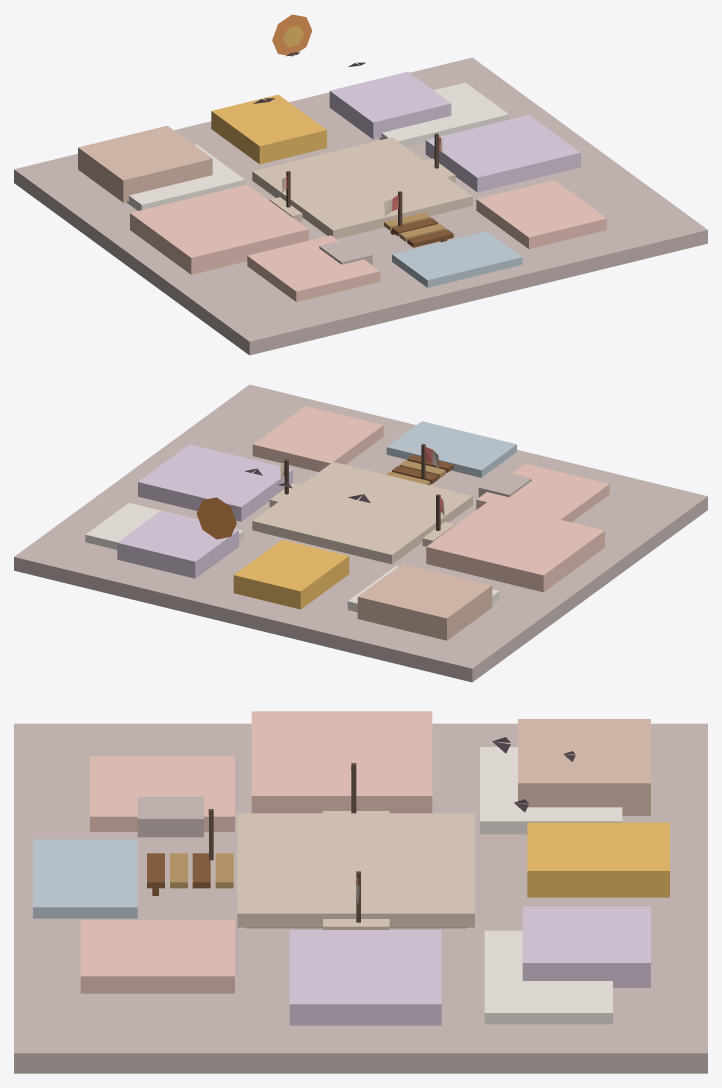
Rendered from env_cloudsea.glb.
3 views of the same model, one above another, from view 1: azimuth 30°, elevation 25°; view 2: azimuth 150°, elevation 25°; view 3: azimuth 270°, elevation 25° (orthographic). The views are drawn at different scales.
Parts seen in each view (by area): view 1: CS_clouds, CS_platform, CS_walk, CS_sun, CS_flags, CS_pads; view 2: CS_clouds, CS_platform, CS_sun, CS_walk, CS_flags, CS_pads; view 3: CS_clouds, CS_platform, CS_walk, CS_pads, CS_flags.
Boxes of the visible parts, x1,y1,x2,y2 form: CS_clouds: (14, 57, 707, 355); CS_platform: (252, 137, 472, 238); CS_walk: (384, 212, 453, 247); CS_sun: (272, 14, 312, 56); CS_flags: (282, 133, 442, 226); CS_pads: (269, 158, 455, 221); CS_clouds: (14, 384, 707, 682); CS_platform: (252, 462, 472, 564); CS_sun: (196, 497, 236, 539); CS_walk: (386, 454, 453, 485); CS_flags: (280, 443, 444, 530); CS_pads: (269, 483, 455, 546); CS_clouds: (14, 711, 707, 1073); CS_platform: (237, 813, 474, 928); CS_walk: (147, 853, 233, 895); CS_pads: (323, 811, 389, 929); CS_flags: (208, 763, 360, 922).
Bounding box in the file's own units: 16.4 × 3.82 × 14.6.
1 material, 1 textured.
